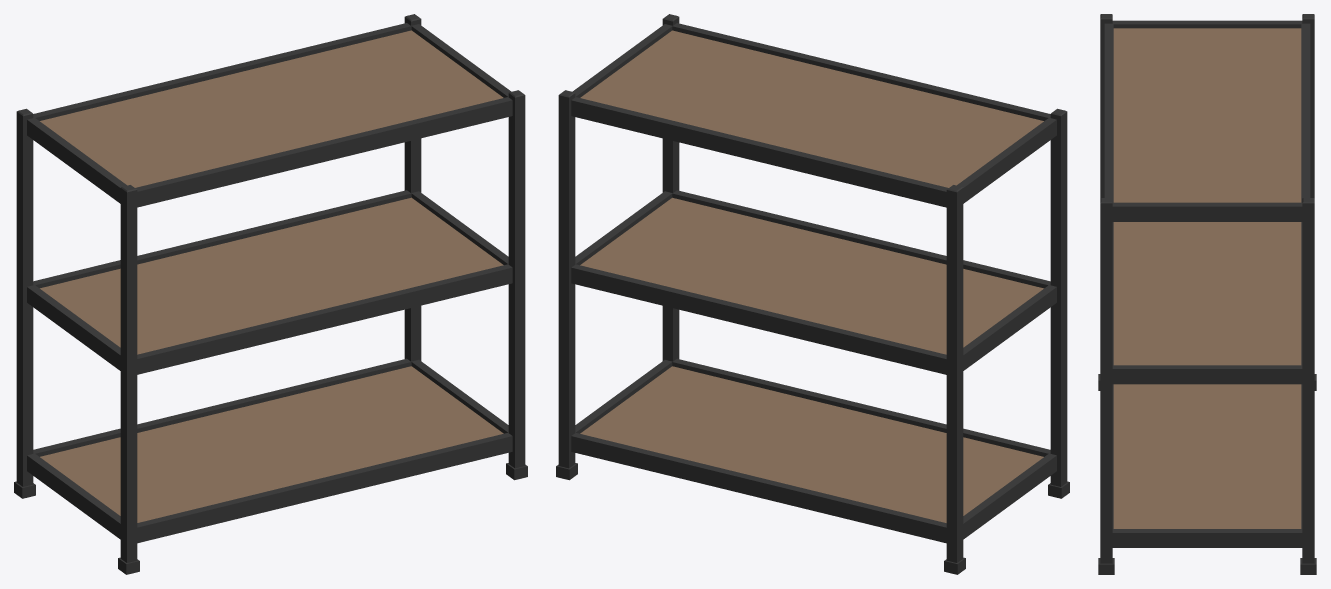
File: props_62.glb
3 renders of one model, left to right at view 1: azimuth 30°, elevation 25°; view 2: azimuth 150°, elevation 25°; view 3: azimuth 270°, elevation 25°, orthographic. The views are drawn at different scales.
Visible parts, largest first — view 1: props_62; view 2: props_62; view 3: props_62.
Boxes of the visible parts, bbox=[...] form: props_62: bbox=[14, 14, 527, 574]; props_62: bbox=[556, 14, 1069, 574]; props_62: bbox=[1098, 14, 1316, 574].
Size of the model in its own units: 1.97 by 1.79 by 0.9536.
1 material, 1 textured.
